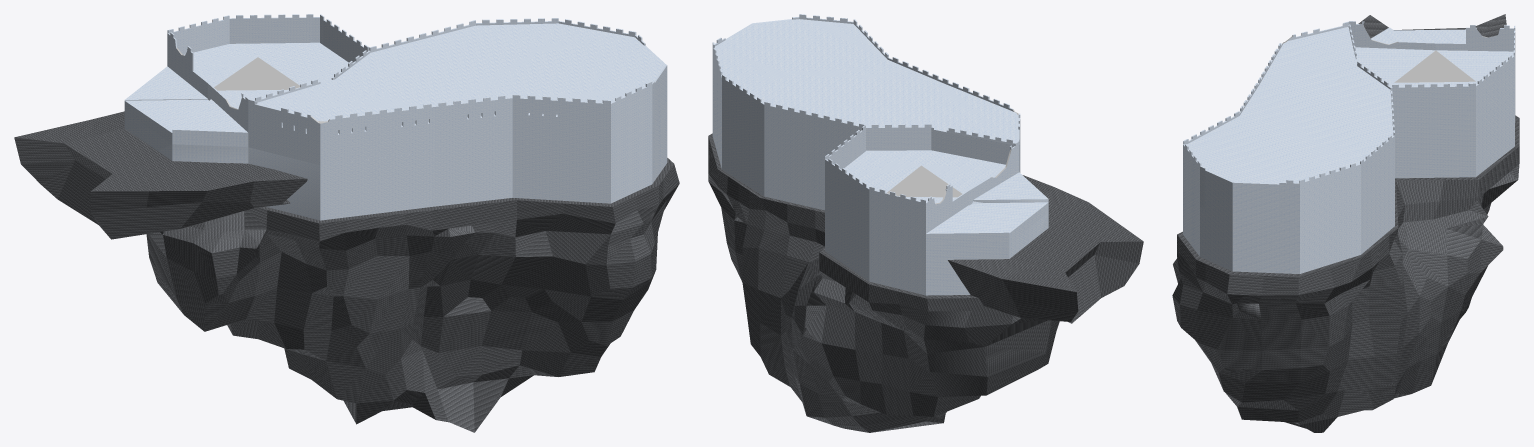
File: Castle.fbx
3 renders of one model, left to right at view 1: azimuth 30°, elevation 25°; view 2: azimuth 150°, elevation 25°; view 3: azimuth 270°, elevation 25°, orthographic. The views are drawn at different scales.
Parts seen in each view (by area): view 1: CastleStone, Castle; view 2: Castle, CastleStone; view 3: Castle, CastleStone.
Part boxes in pixels (x1,y1,x2,y2): CastleStone: [14, 111, 679, 432]; Castle: [124, 14, 667, 220]; Castle: [712, 14, 1048, 295]; CastleStone: [708, 133, 1143, 432]; Castle: [1183, 21, 1515, 273]; CastleStone: [1172, 14, 1519, 432].
Size of the model in its own units: 19703 by 12723 by 12661.
